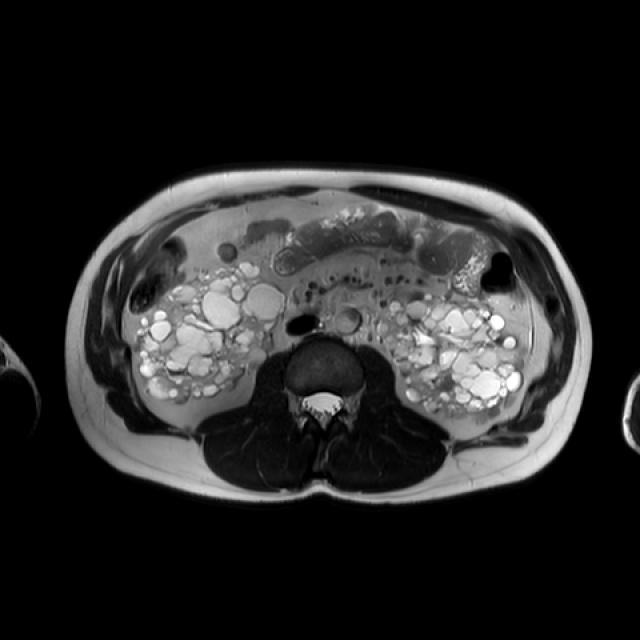sag: (130, 261, 287, 403)
sol: (374, 289, 530, 423)
